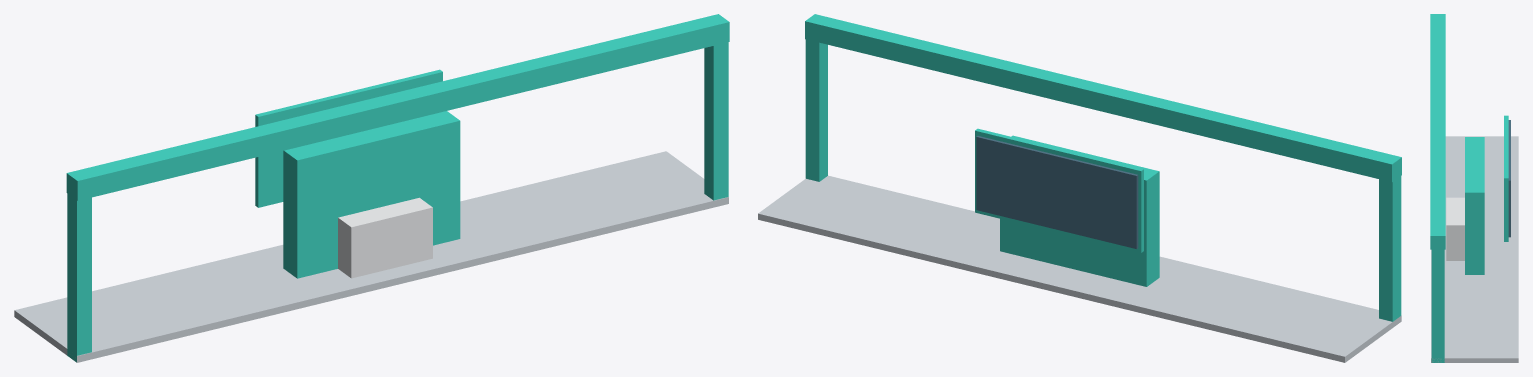
The picture shows the model from 3 angles, left to right: view 1: azimuth 30°, elevation 25°; view 2: azimuth 150°, elevation 25°; view 3: azimuth 270°, elevation 25°; orthographic projection. The views are drawn at different scales.
Visible parts, largest first — view 1: Exhibition Booth Concept; view 2: Exhibition Booth Concept; view 3: Exhibition Booth Concept.
Boxes of the visible parts, x1,y1,x2,y2 form: Exhibition Booth Concept: (14, 14, 729, 362); Exhibition Booth Concept: (758, 14, 1401, 362); Exhibition Booth Concept: (1430, 14, 1518, 362).
Size of the model in its own units: 12 by 3.2 by 2.01.
